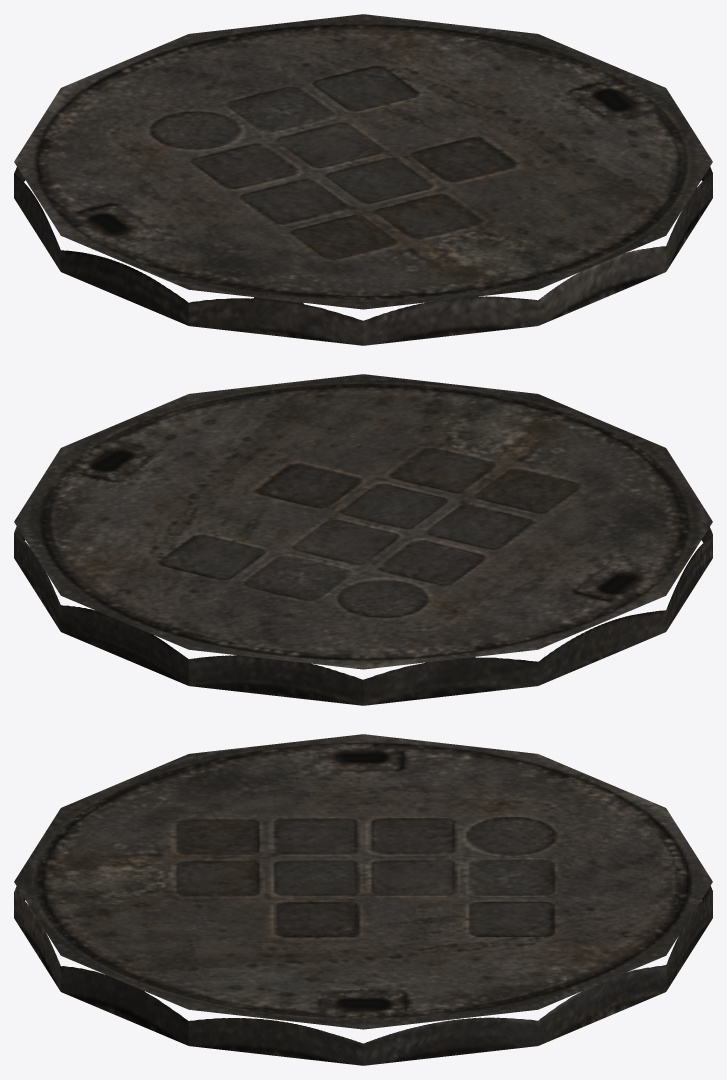
The model's file is Manhole_Cover.fbx.
3 views of the same model, one above another, from view 1: azimuth 30°, elevation 25°; view 2: azimuth 150°, elevation 25°; view 3: azimuth 270°, elevation 25° (orthographic).
Parts seen in each view (by area): view 1: Manhole; view 2: Manhole; view 3: Manhole.
Boxes of the visible parts, left/top/right/bottom form: Manhole: left=14, top=14, right=712, bottom=345; Manhole: left=14, top=374, right=712, bottom=705; Manhole: left=14, top=734, right=712, bottom=1065.
Bounding box in the file's own units: 47.86 × 2.74 × 47.86.
Materials: 1 (1 with a texture image).
